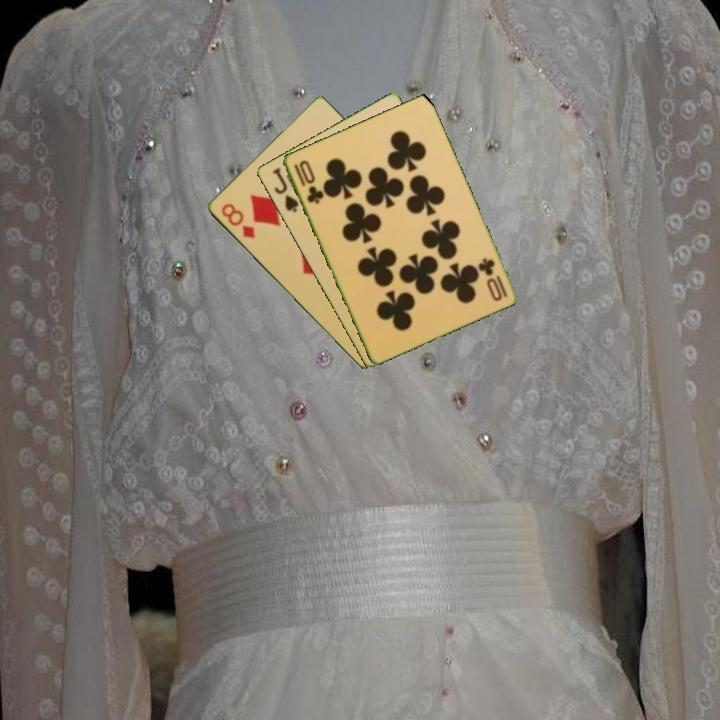10c: (290, 156, 326, 207), (475, 254, 510, 301)
8d: (217, 200, 258, 242)
Js: (268, 164, 301, 216)
